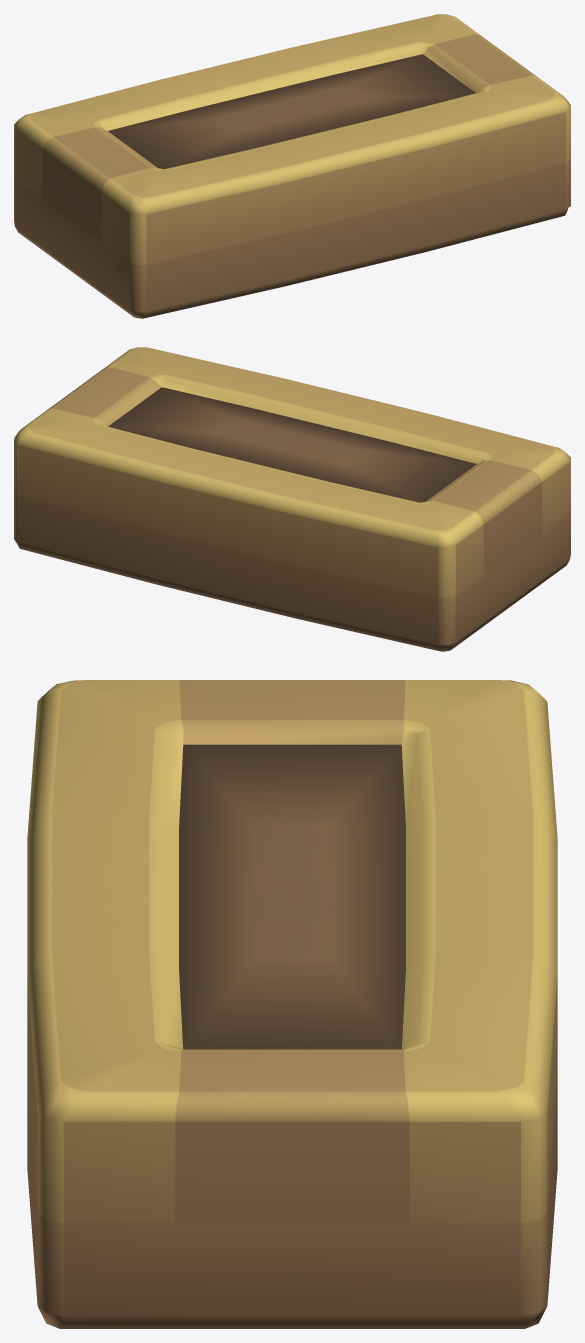
The model's file is plant_box2_LOD_setup.fbx.
3 renders of one model, top to bottom at view 1: azimuth 30°, elevation 25°; view 2: azimuth 150°, elevation 25°; view 3: azimuth 270°, elevation 25°, orthographic. The views are drawn at different scales.
Visible parts, largest first — view 1: plant_box2_LOD0; view 2: plant_box2_LOD0; view 3: plant_box2_LOD0.
Part boxes in pixels (<box>): plant_box2_LOD0: <box>14,14,570,318</box>; plant_box2_LOD0: <box>14,347,570,651</box>; plant_box2_LOD0: <box>27,680,557,1328</box>.
Size of what is drawn, in the model's own units: 200 by 51.38 by 104.
